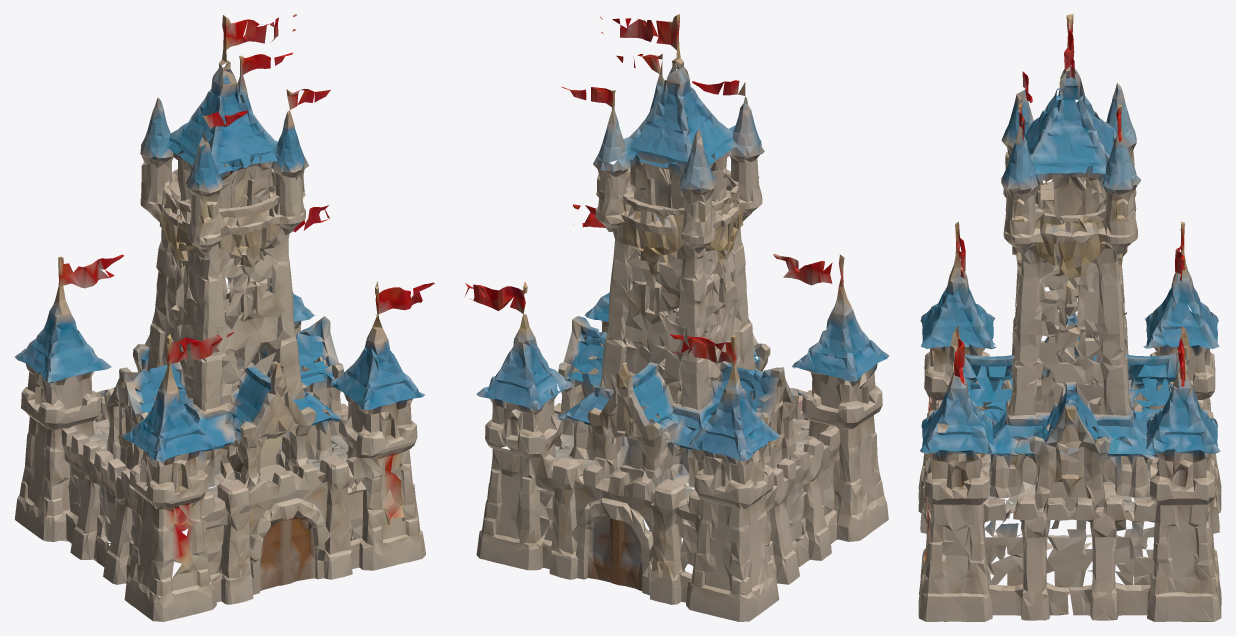
The model's file is building_royal_citadel_lod1.glb.
The picture shows the model from 3 angles, left to right: view 1: azimuth 30°, elevation 25°; view 2: azimuth 150°, elevation 25°; view 3: azimuth 270°, elevation 25°; orthographic projection. The views are drawn at different scales.
Parts seen in each view (by area): view 1: world; view 2: world; view 3: world.
Boxes of the visible parts, x1=… form: world: x1=14, y1=14, x2=434, y2=621; world: x1=465, y1=14, x2=889, y2=621; world: x1=918, y1=14, x2=1221, y2=621.
Size of the model in its own units: 1.14 by 1.89 by 0.9564.
